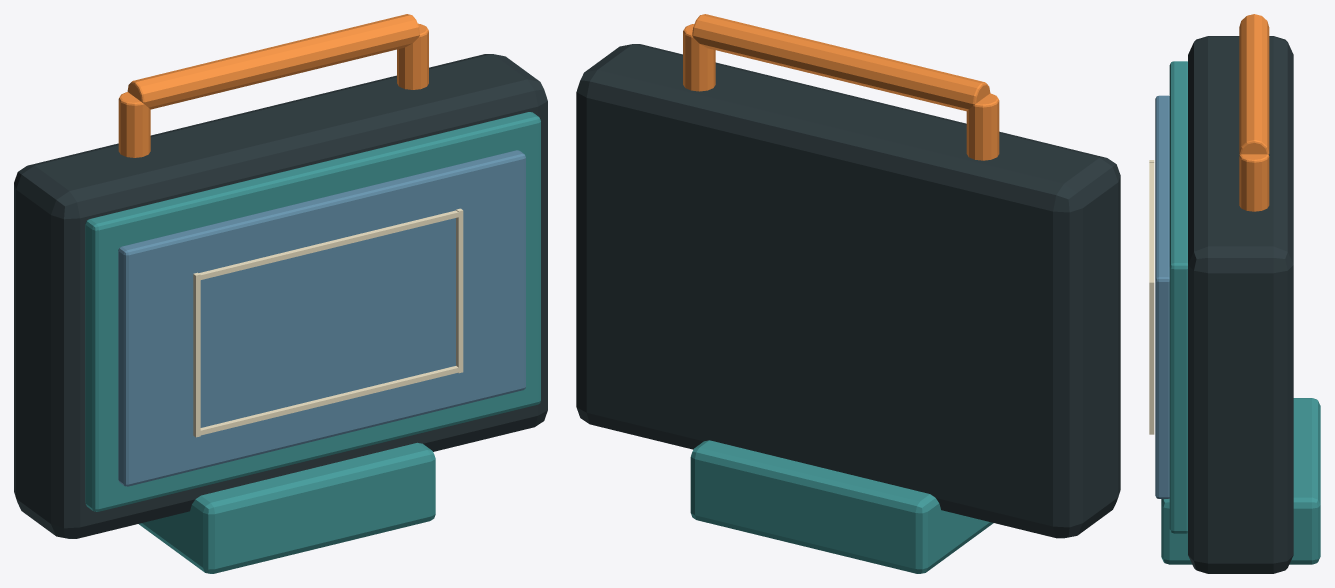
The model's file is P062_portable_monitor.glb.
3 views of the same model, side by side, from view 1: azimuth 30°, elevation 25°; view 2: azimuth 150°, elevation 25°; view 3: azimuth 270°, elevation 25° (orthographic). The views are drawn at different scales.
Parts seen in each view (by area): view 1: P062_screen_003, P062_monitor_001, P062_bezel_002, P062_foot_008, P062_handle_top_011, P062_frame_007, P062_frame_006, P062_handle_left_009, P062_handle_right_010, P062_frame_004, P062_frame_005; view 2: P062_monitor_001, P062_foot_008, P062_handle_top_011, P062_handle_left_009, P062_handle_right_010; view 3: P062_monitor_001, P062_bezel_002, P062_screen_003, P062_foot_008, P062_handle_top_011, P062_handle_right_010, P062_frame_005, P062_frame_007.
Boxes of the visible parts, bbox=[...] form: P062_screen_003: bbox=[118, 150, 525, 486]; P062_monitor_001: bbox=[14, 54, 547, 538]; P062_bezel_002: bbox=[85, 112, 540, 511]; P062_foot_008: bbox=[139, 442, 435, 573]; P062_handle_top_011: bbox=[127, 14, 419, 109]; P062_frame_007: bbox=[198, 210, 460, 280]; P062_frame_006: bbox=[198, 366, 460, 435]; P062_handle_left_009: bbox=[118, 92, 150, 157]; P062_handle_right_010: bbox=[397, 23, 428, 89]; P062_frame_004: bbox=[193, 272, 200, 437]; P062_frame_005: bbox=[456, 208, 463, 373]; P062_monitor_001: bbox=[576, 44, 1120, 538]; P062_foot_008: bbox=[690, 440, 993, 573]; P062_handle_top_011: bbox=[692, 14, 990, 111]; P062_handle_left_009: bbox=[966, 93, 999, 160]; P062_handle_right_010: bbox=[683, 24, 715, 91]; P062_monitor_001: bbox=[1188, 36, 1293, 573]; P062_bezel_002: bbox=[1169, 61, 1187, 533]; P062_screen_003: bbox=[1155, 95, 1169, 498]; P062_foot_008: bbox=[1161, 398, 1320, 564]; P062_handle_top_011: bbox=[1239, 14, 1269, 154]; P062_handle_right_010: bbox=[1239, 154, 1269, 211]; P062_frame_005: bbox=[1149, 280, 1154, 434]; P062_frame_007: bbox=[1149, 163, 1154, 280].
Bounding box in the file's own units: 0.32 × 0.288 × 0.102.
